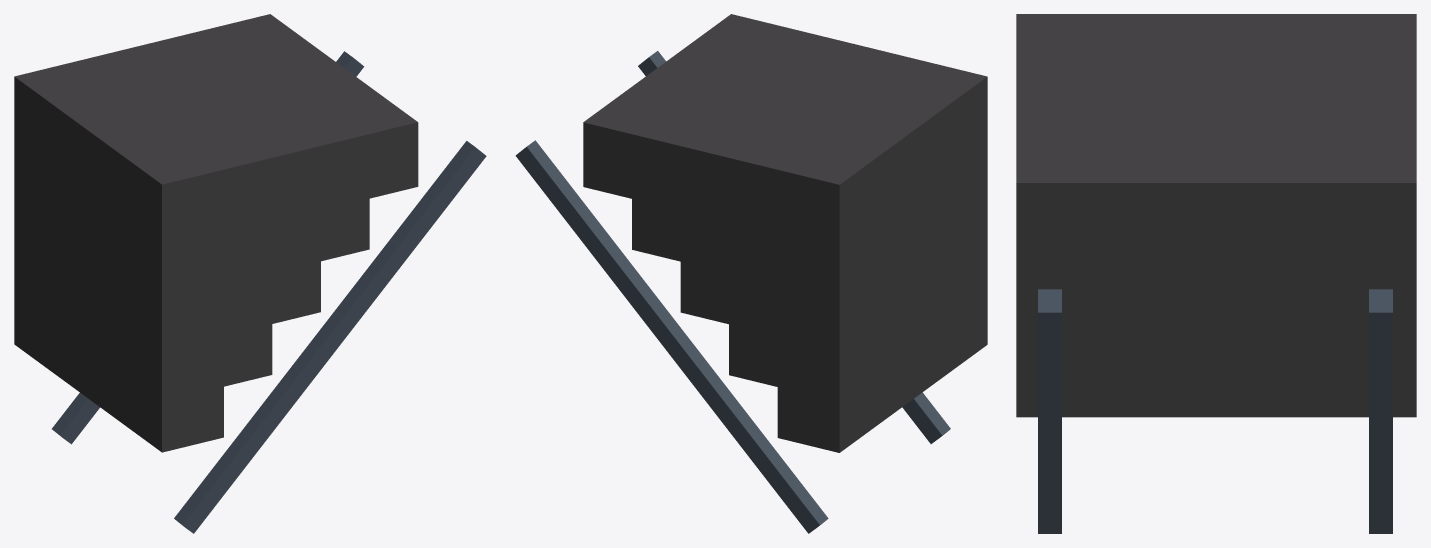
File: stairs.fbx
3 views of the same model, side by side, from view 1: azimuth 30°, elevation 25°; view 2: azimuth 150°, elevation 25°; view 3: azimuth 270°, elevation 25° (orthographic). The views are drawn at different scales.
Visible parts, largest first — view 1: Cube, Cube.002, Cube.001; view 2: Cube, Cube.001, Cube.002; view 3: Cube, Cube.001, Cube.002.
Boxes of the visible parts, x1,y1,x2,y2 form: Cube: (14, 14, 418, 452); Cube.002: (174, 141, 486, 533); Cube.001: (52, 51, 364, 444); Cube: (583, 14, 987, 452); Cube.001: (515, 140, 828, 533); Cube.002: (638, 51, 950, 443); Cube: (1016, 14, 1416, 417); Cube.001: (1369, 289, 1392, 533); Cube.002: (1038, 289, 1061, 533).
Bounding box in the file's own units: 260 × 272 × 200.
